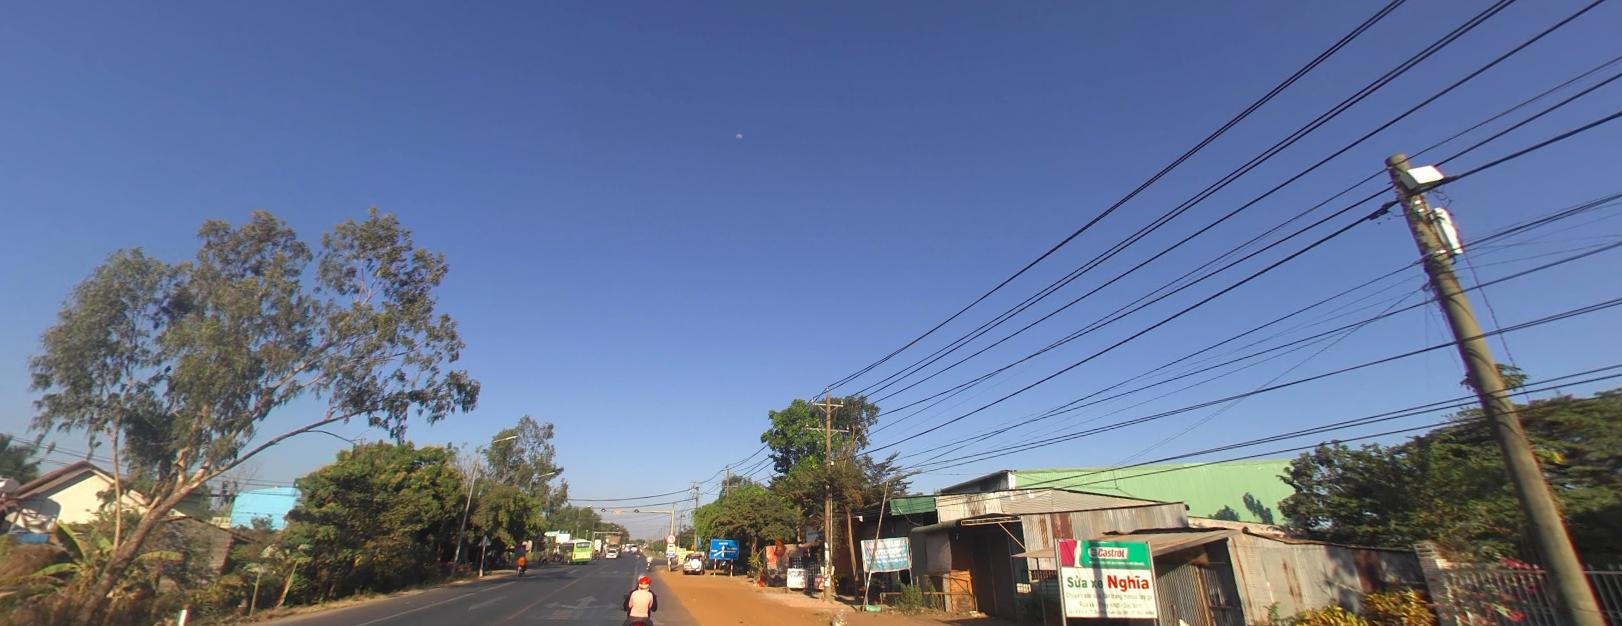Cam re: (666, 533, 675, 542)
